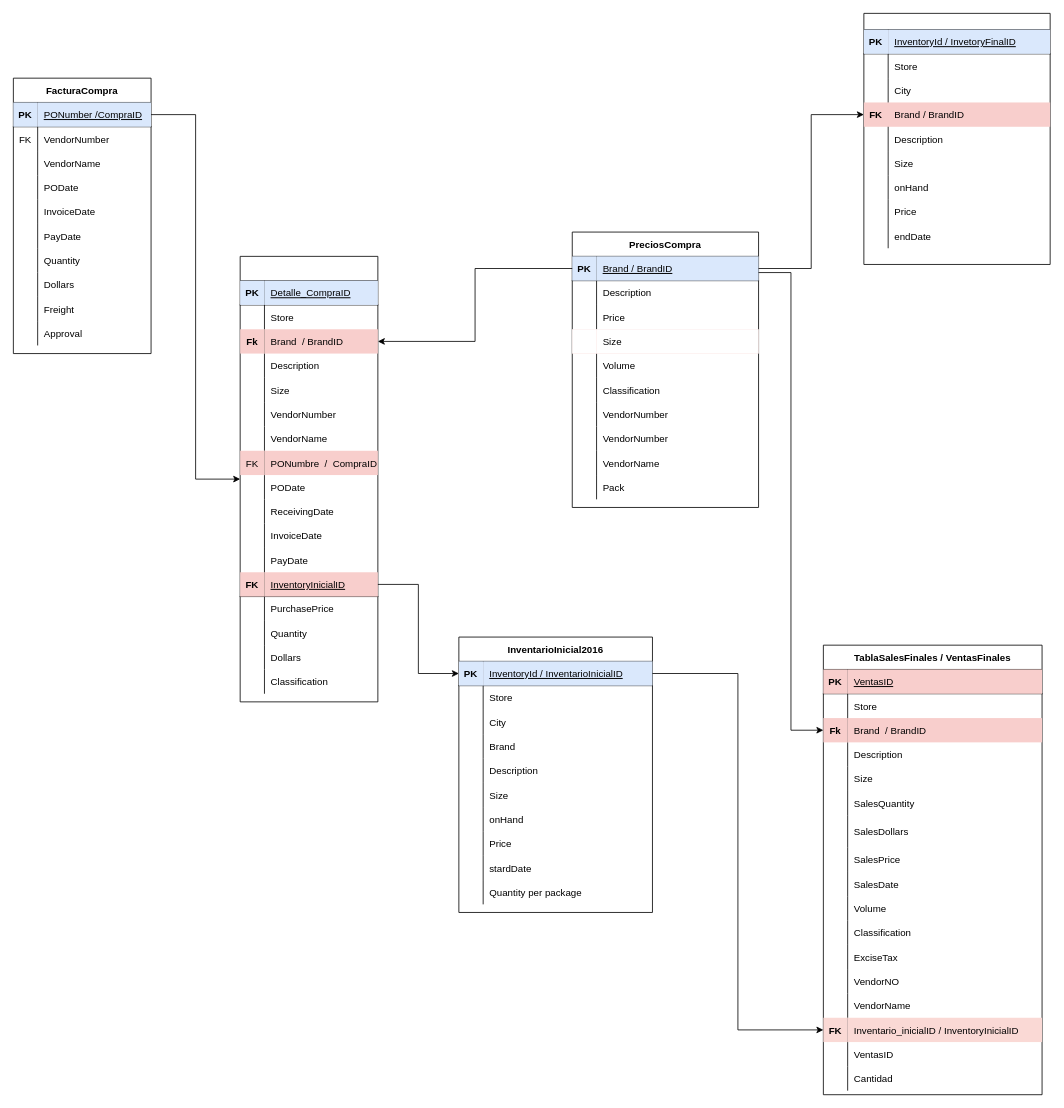
This 1064x1108 diagram has some shape labels left out. Here are the shapes that lost their labels. From the top down, the box of each, then its label:
(863, 13, 1050, 264): InventarioFinal2016
(239, 256, 378, 702): PurchasesDetail
